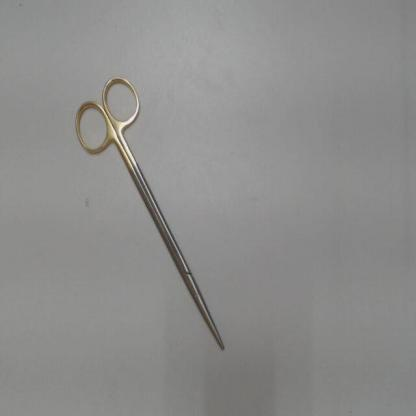7 Metzenbaum Scissors: (70, 69, 228, 354)
